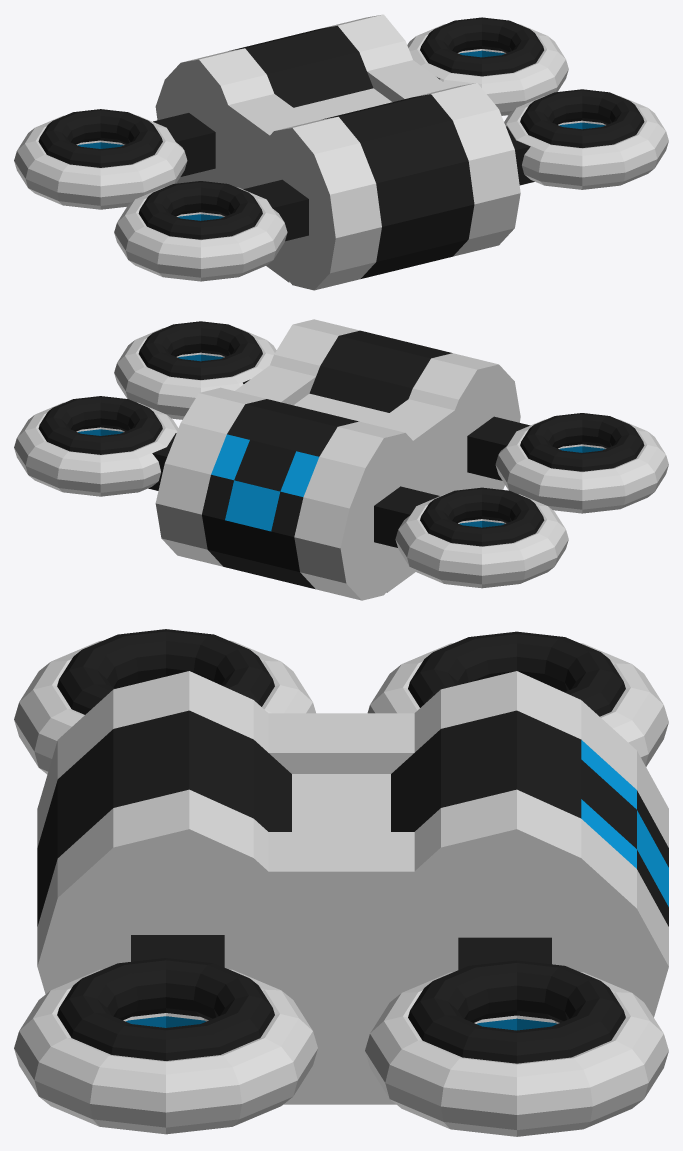
File: Little Drone - Copia.glb
The picture shows the model from 3 angles, top to bottom: view 1: azimuth 30°, elevation 25°; view 2: azimuth 150°, elevation 25°; view 3: azimuth 270°, elevation 25°; orthographic projection. The views are drawn at different scales.
Parts seen in each view (by area): view 1: group63361916; view 2: group63361916; view 3: group63361916.
Part boxes in pixels (box(x1,y1,x2,y2)): group63361916: box(14, 14, 668, 290); group63361916: box(14, 319, 668, 600); group63361916: box(14, 629, 668, 1136).
Bounding box in the file's own units: 0.46 × 0.13 × 0.28.
